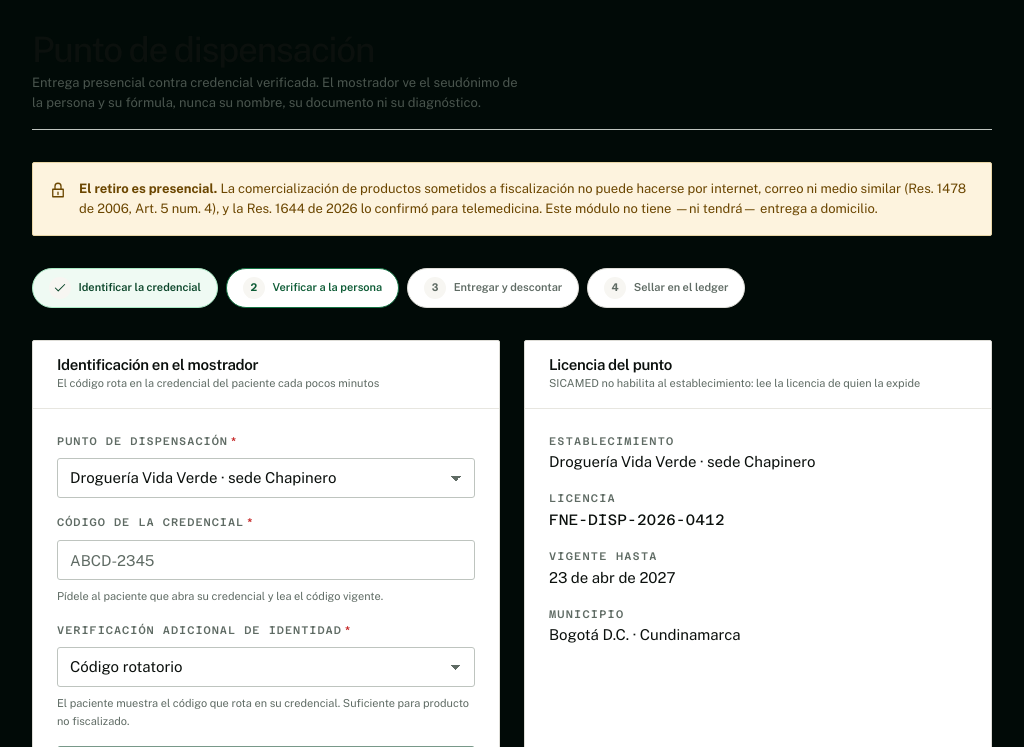
accesibilidad del punto de dispensación › rechaza un código inexistente con un mensaje que no confirma la existencia
This screenshot has width=1024, height=747.
Expected: the dropdown labelled "Punto de dispensación*" is shown, left=57, top=458, right=475, bottom=498
In the field labelled "Código de la credencial*": (266, 560) left=57, top=540, right=475, bottom=580, type "ZZZZ-0000"
(page scrolled)
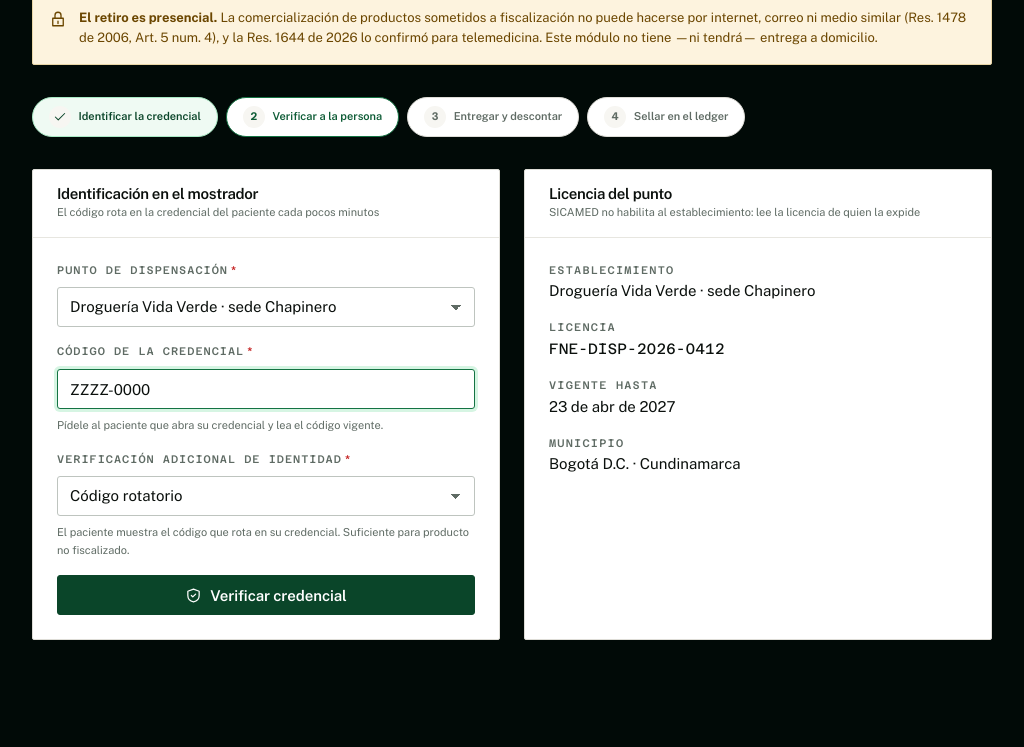
Click the button "Verificar credencial": (266, 595) left=57, top=575, right=475, bottom=615
(page scrolled)
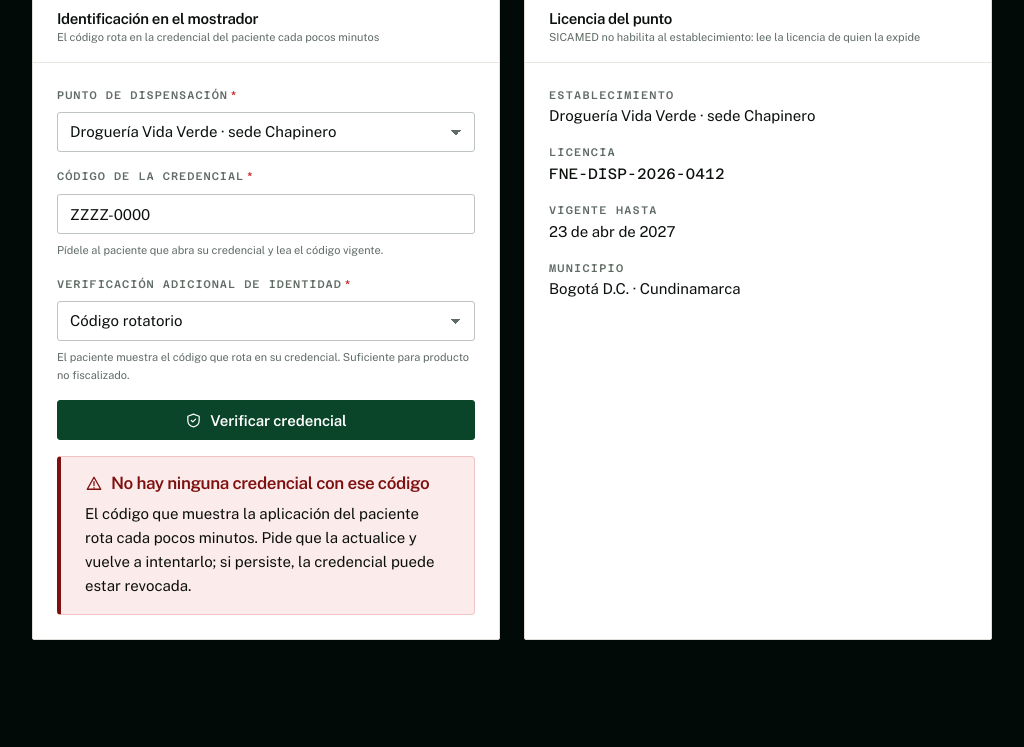
Expected: the message shows "No hay ninguna credencial", left=111, top=473, right=429, bottom=493
